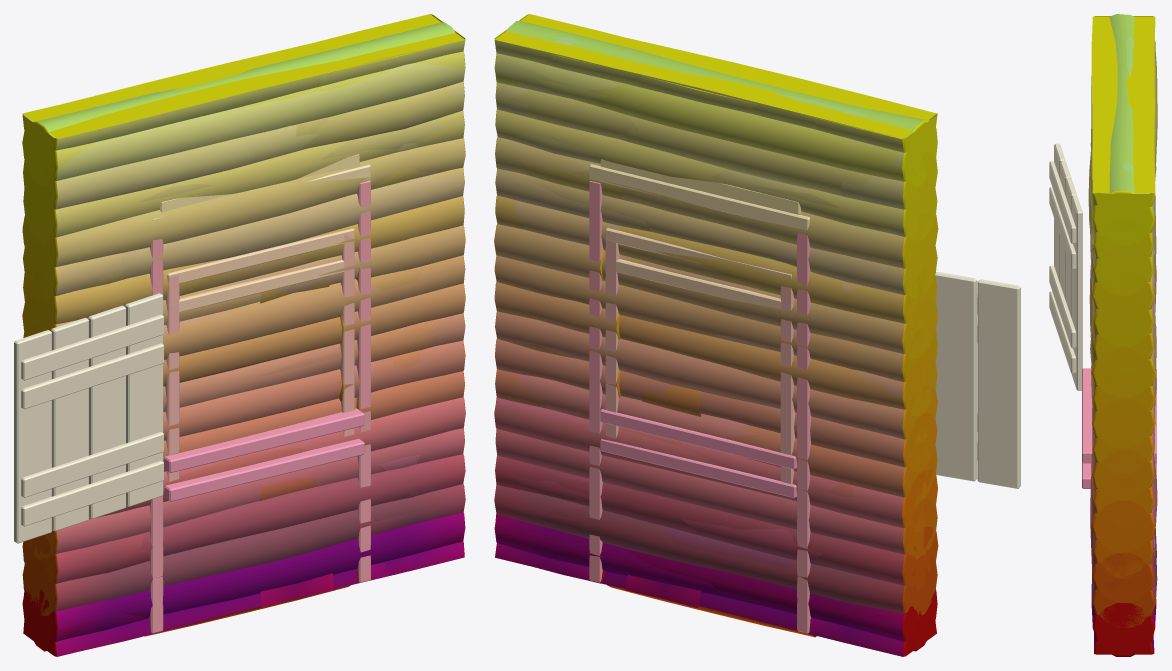
The model's file is walls.glb.
The picture shows the model from 3 angles, left to right: view 1: azimuth 30°, elevation 25°; view 2: azimuth 150°, elevation 25°; view 3: azimuth 270°, elevation 25°; orthographic projection. The views are drawn at different scales.
Parts seen in each view (by area): view 1: window_even, window_odd, wall_odd_a, wall_even_a, doorway_even, wall_even_b, doorway_odd, wall_odd_b, stub_odd; view 2: window_even, wall_odd_a, window_odd, wall_even_a, wall_even_b, doorway_odd, doorway_even, wall_odd_b, stub_odd, stub_even; view 3: wall_even_a, window_even, wall_even_b, wall_odd_a, doorway_odd, window_odd, doorway_even, wall_odd_b.
Boxes of the visible parts, bbox=[...] form: window_even: bbox=[14, 126, 465, 646]; window_odd: bbox=[14, 15, 464, 655]; wall_odd_a: bbox=[22, 14, 465, 651]; wall_even_a: bbox=[22, 88, 464, 651]; doorway_even: bbox=[22, 33, 465, 646]; wall_even_b: bbox=[22, 22, 465, 642]; doorway_odd: bbox=[23, 16, 465, 656]; wall_odd_b: bbox=[23, 15, 464, 649]; stub_odd: bbox=[259, 360, 334, 607]; window_even: bbox=[494, 53, 1020, 641]; wall_odd_a: bbox=[494, 14, 938, 655]; window_odd: bbox=[495, 15, 1020, 655]; wall_even_a: bbox=[495, 93, 937, 651]; wall_even_b: bbox=[495, 21, 938, 639]; doorway_odd: bbox=[494, 14, 937, 656]; doorway_even: bbox=[494, 37, 937, 640]; wall_odd_b: bbox=[495, 26, 937, 654]; stub_odd: bbox=[625, 182, 700, 607]; stub_even: bbox=[631, 258, 701, 416]; wall_even_a: bbox=[1090, 35, 1156, 656]; window_even: bbox=[1049, 143, 1157, 654]; wall_even_b: bbox=[1090, 14, 1157, 651]; wall_odd_a: bbox=[1088, 16, 1156, 654]; doorway_odd: bbox=[1091, 16, 1157, 654]; window_odd: bbox=[1049, 16, 1156, 654]; doorway_even: bbox=[1090, 41, 1156, 649]; wall_odd_b: bbox=[1092, 16, 1155, 654].
Size of the model in its own units: 2.32 by 2.52 by 0.5192.
